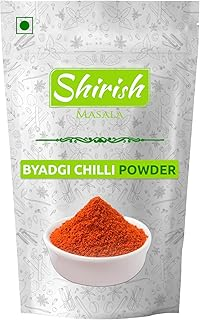Chilli Powder: (1, 1, 200, 320)
